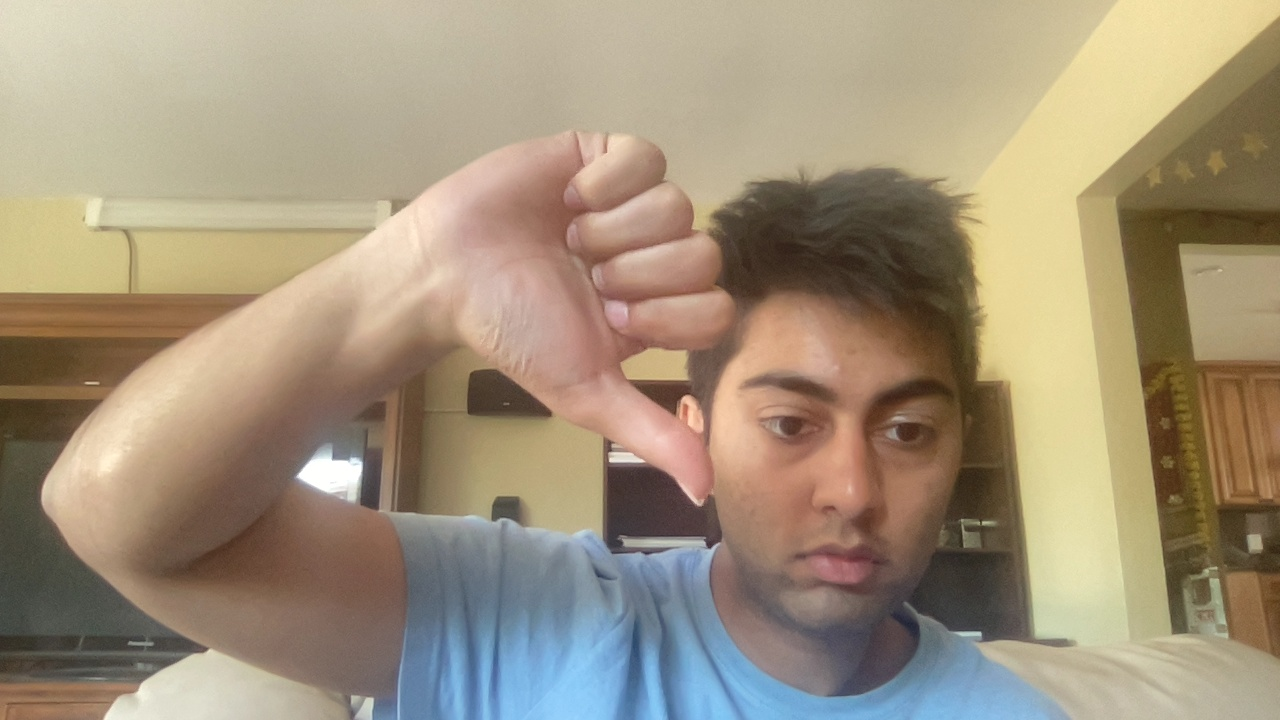ThumbsDown: (456, 127, 739, 505)
